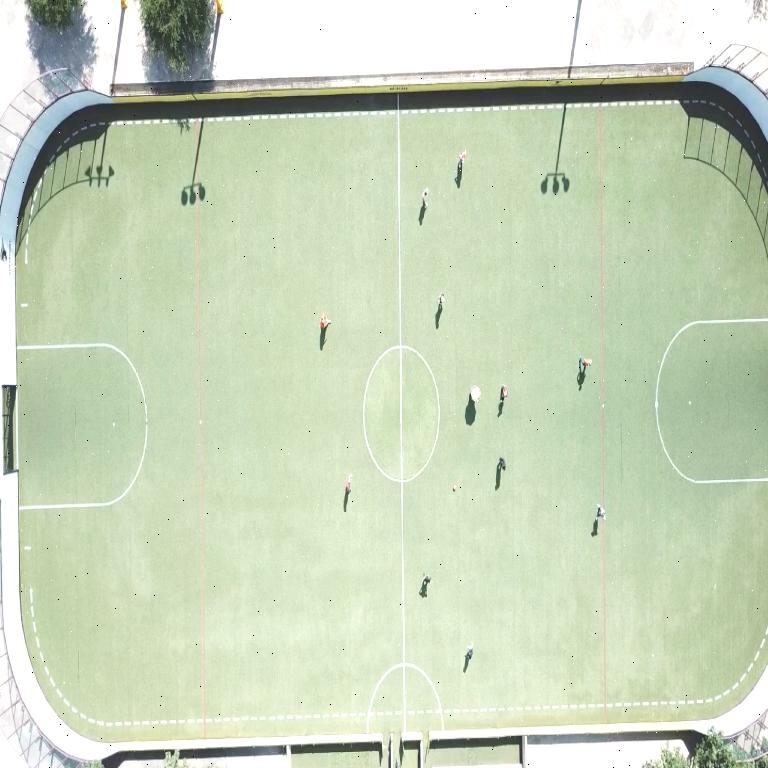AC: (19, 346, 148, 508), (655, 318, 768, 483)
B: (453, 484, 457, 491)
MC: (397, 94, 406, 731)
P: (419, 573, 430, 597), (579, 357, 591, 375), (464, 643, 472, 668), (319, 312, 330, 330), (471, 385, 481, 402), (595, 505, 605, 520), (457, 151, 465, 168), (345, 474, 351, 494), (499, 386, 507, 401), (421, 188, 427, 207), (497, 457, 505, 470), (437, 294, 444, 308)
